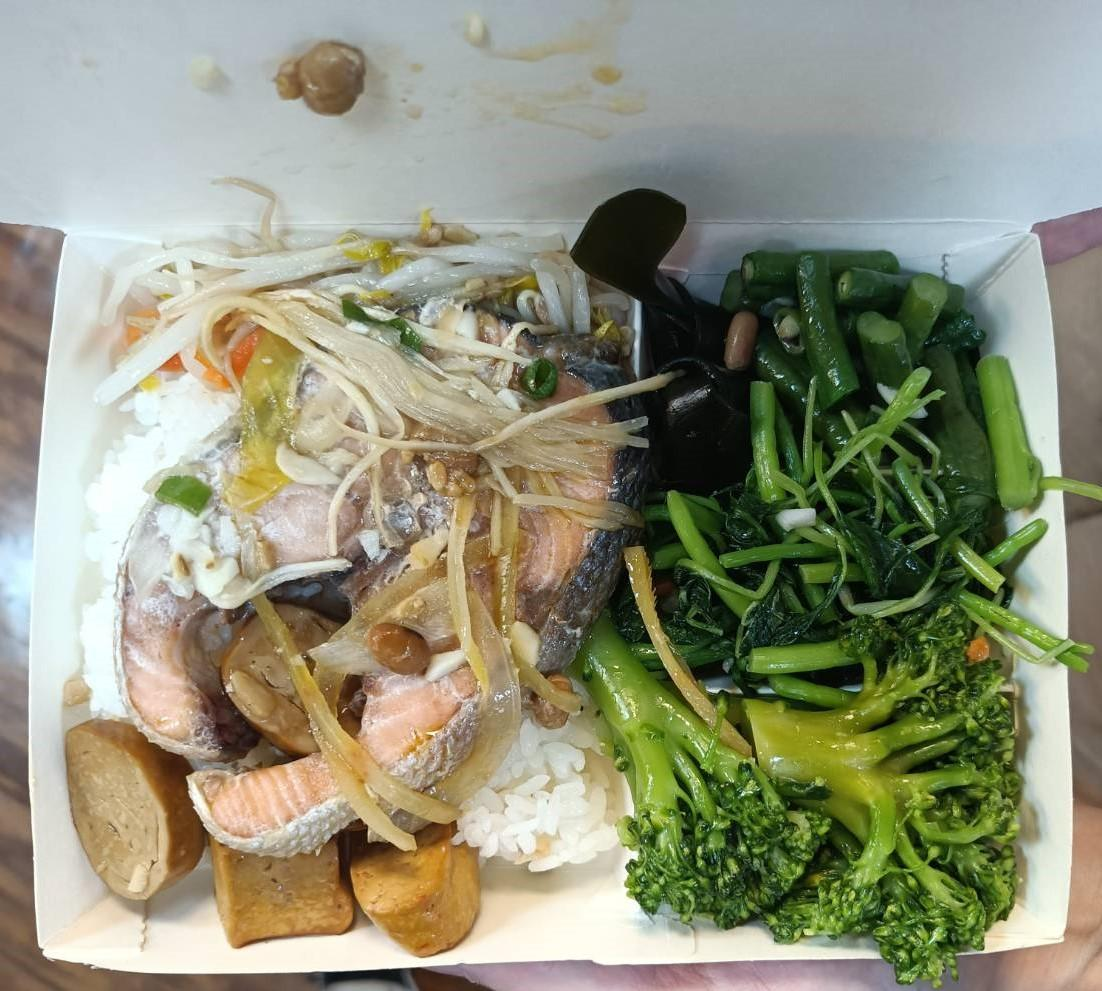big grilled chicken leg: (21, 203, 1072, 984)
big herbal chicken leg: (98, 298, 646, 864)
braised fish fillet: (622, 706, 1036, 968), (654, 478, 1001, 702), (72, 778, 518, 948), (730, 243, 1008, 457)
brown rice: (165, 315, 628, 818)
